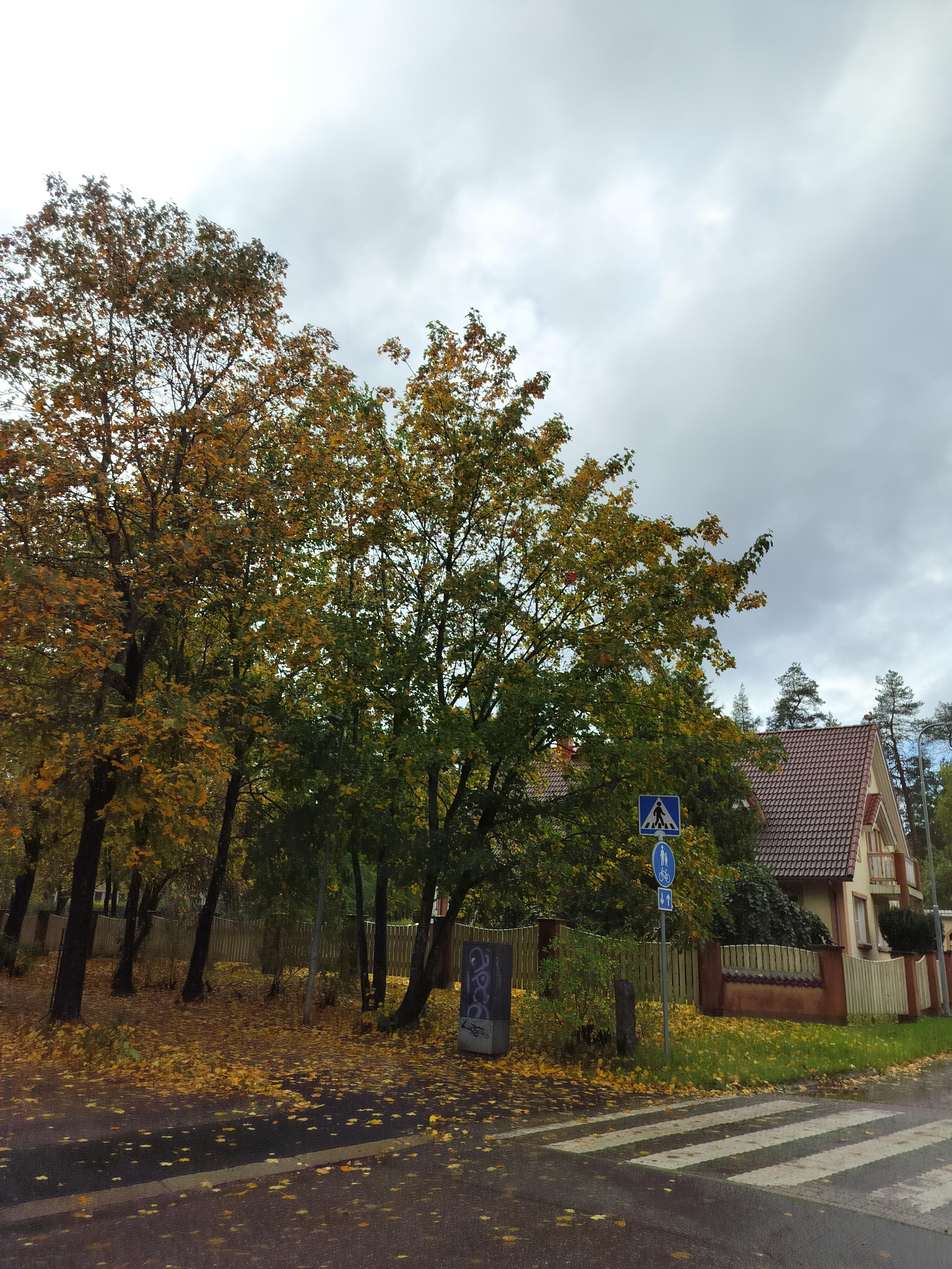Maple: (0, 174, 766, 779), (1, 171, 297, 1060), (190, 219, 464, 1042)
